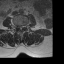CCS_normal: (20, 24, 21, 32)
LFS_stenosis: (23, 23, 25, 29)
LLS_stenosis: (21, 24, 23, 30)
RFS_severe_stenosis: (16, 24, 18, 29)
RLS_stenosis: (18, 24, 20, 29)
